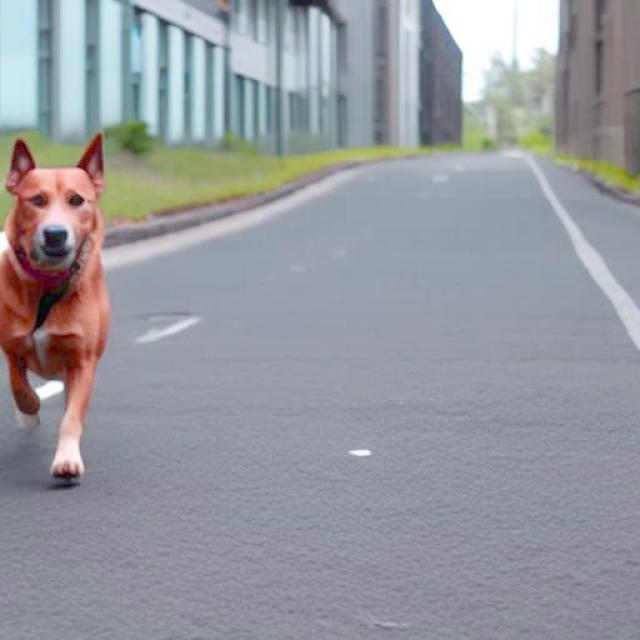Dog: (0, 131, 111, 480)
